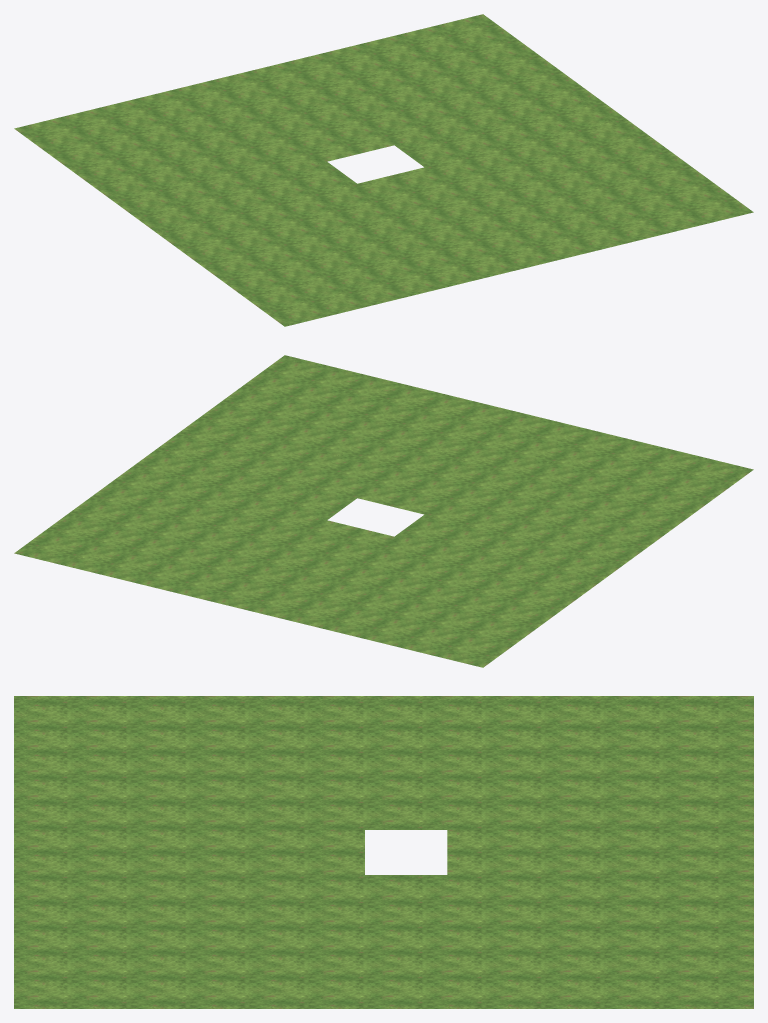
Rendered from townGround.glb.
The picture shows the model from 3 angles, top to bottom: view 1: azimuth 30°, elevation 25°; view 2: azimuth 150°, elevation 25°; view 3: azimuth 270°, elevation 25°; orthographic projection. The views are drawn at different scales.
Visible parts, largest first — view 1: townGround; view 2: townGround; view 3: townGround.
Boxes of the visible parts, x1,y1,x2,y2 form: townGround: (14,14,753,326); townGround: (14,355,753,667); townGround: (14,696,753,1008).
Bounding box in the file's own units: 100 × 0 × 100.
1 material, 1 textured.
